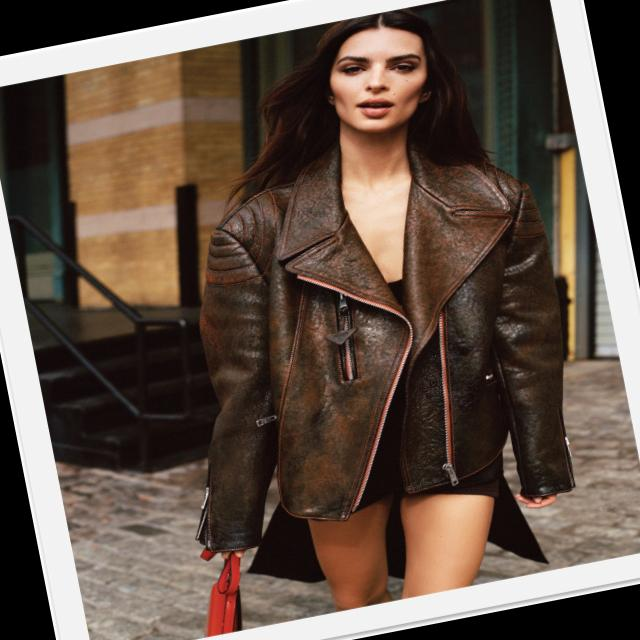Jacket: (114, 117, 625, 582)
